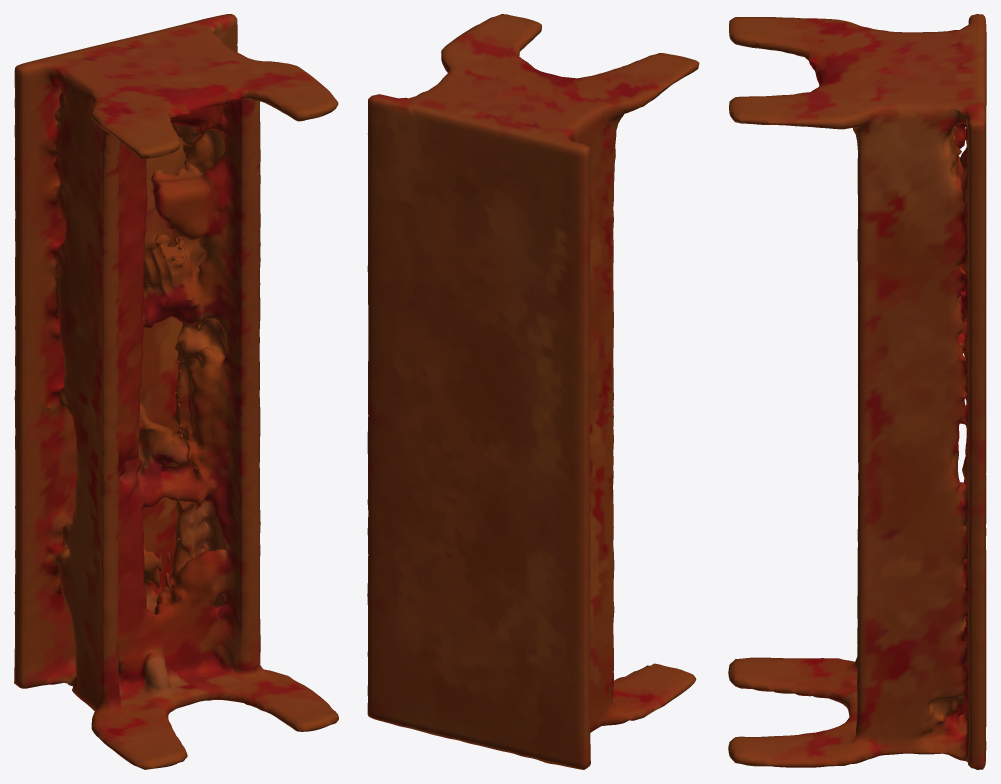
Rendered from Rectangular wooden table with a dark red finish an.glb.
3 views of the same model, side by side, from view 1: azimuth 30°, elevation 25°; view 2: azimuth 150°, elevation 25°; view 3: azimuth 270°, elevation 25° (orthographic). The views are drawn at different scales.
Visible parts, largest first — view 1: Rectangular wooden table with a dark red finish an; view 2: Rectangular wooden table with a dark red finish an; view 3: Rectangular wooden table with a dark red finish an.
Boxes of the visible parts, left/top/right/bottom form: Rectangular wooden table with a dark red finish an: left=14, top=14, right=338, bottom=769; Rectangular wooden table with a dark red finish an: left=367, top=14, right=699, bottom=769; Rectangular wooden table with a dark red finish an: left=728, top=14, right=986, bottom=769.
Bounding box in the file's own units: 0.3693 × 1 × 0.3605.
